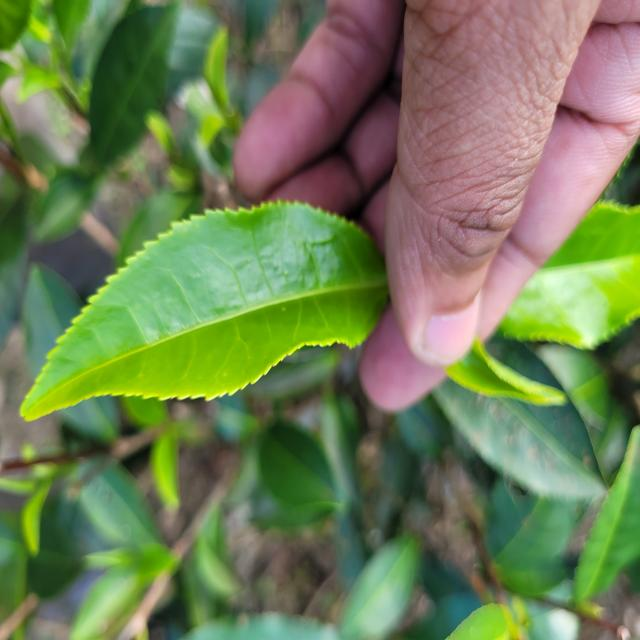Category B(2-4 days): (12, 162, 419, 450)
